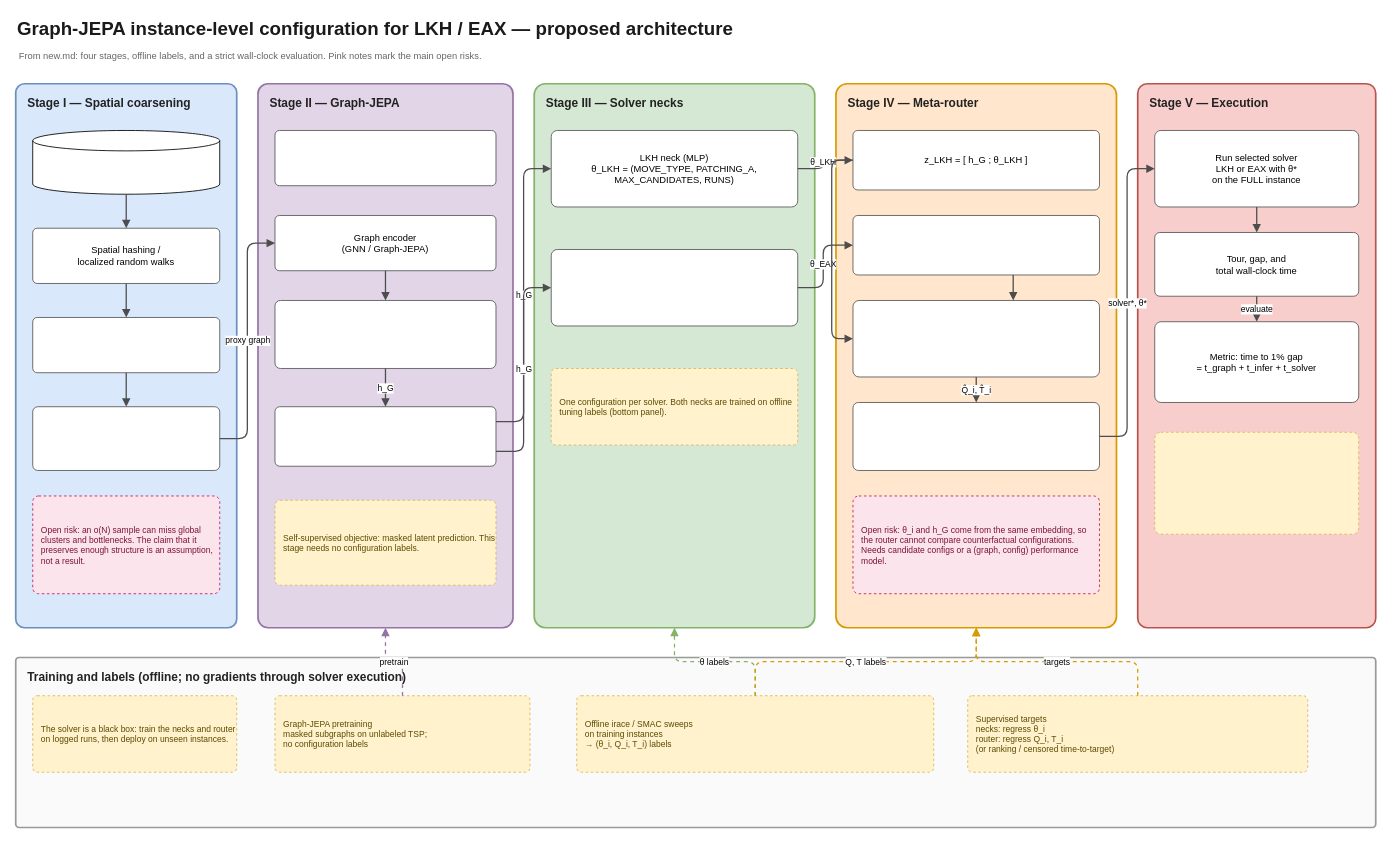
Some shapes in this 1391 by 842 pixel diagram are drawn without their labels. Here are the shapes that lost their labels. From the top down, the centre of each, then its label:
the point at 126,162: TSP instance N = 10k–100k node coordinates
the point at 385,158: Visible context subgraph (masked regions held out)
the point at 975,245: z_EAX = [ h_G ; θ_EAX ]
the point at 674,287: EAX neck (MLP) θ_EAX = (N_pop, N_ch, initial sub-tour heuristic)
the point at 126,345: k-NN graph inside samples (bounded-size proxy)
the point at 385,334: Latent predictor predicts masked-subgraph embeddings (stop-grad target)
the point at 975,338: Prediction heads Q̂_i: expected tour length / gap T̂_i: expected runtime
the point at 126,438: Proxy graph G' cluster density, MST / bottleneck statistics
the point at 385,436: Global embedding h_G ∈ ℝ^d
the point at 975,436: Select (solver*, θ*) argmin_i ( Q̂_i + λ log T̂_i )
the point at 1256,482: Baselines: default LKH / EAX NeuroLKH static irace config per-instance oracle
